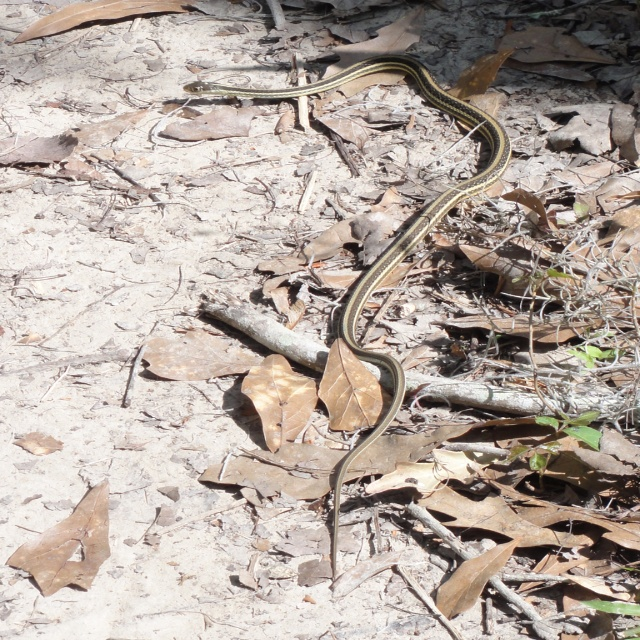Snake: (182, 53, 512, 595)
